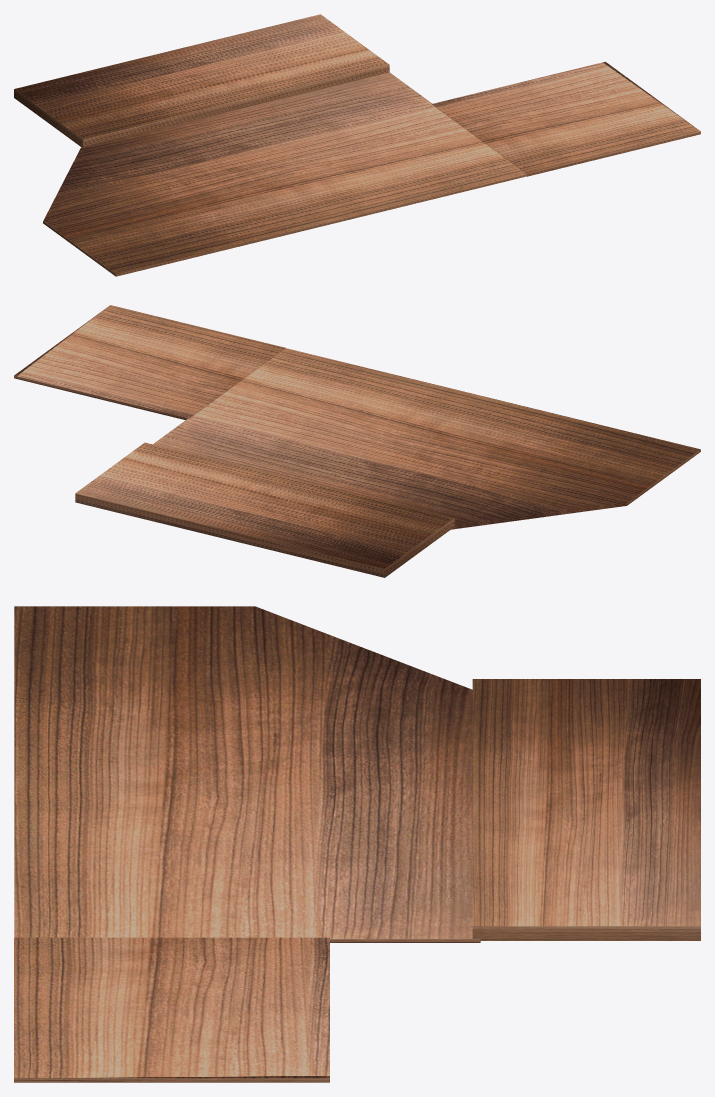
Rendered from piso.obj.
3 views of the same model, one above another, from view 1: azimuth 30°, elevation 25°; view 2: azimuth 150°, elevation 25°; view 3: azimuth 270°, elevation 25° (orthographic). The views are drawn at different scales.
Parts seen in each view (by area): view 1: polySurface2; view 2: polySurface2; view 3: polySurface2.
Part boxes in pixels (box(x1,y1,x2,y2)): polySurface2: box(14, 14, 700, 276); polySurface2: box(14, 305, 700, 577); polySurface2: box(14, 606, 700, 1082).
Bounding box in the file's own units: 77.95 × 1.3 × 47.92.
1 material, 1 textured.
